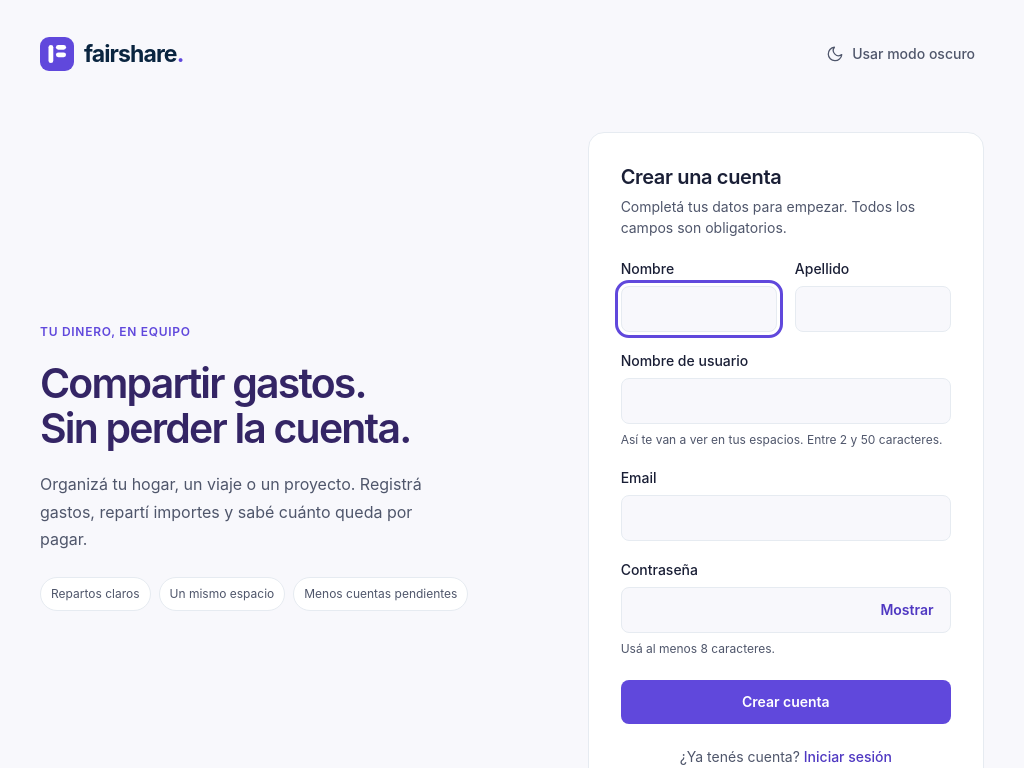
Test: registration › validates every field next to it and focuses the first error
The width and height of the screenshot is (1024, 768).
Type "Ana" into the field named "Nombre (" at (699, 309), box x1=621 y1=286 x2=777 y2=332
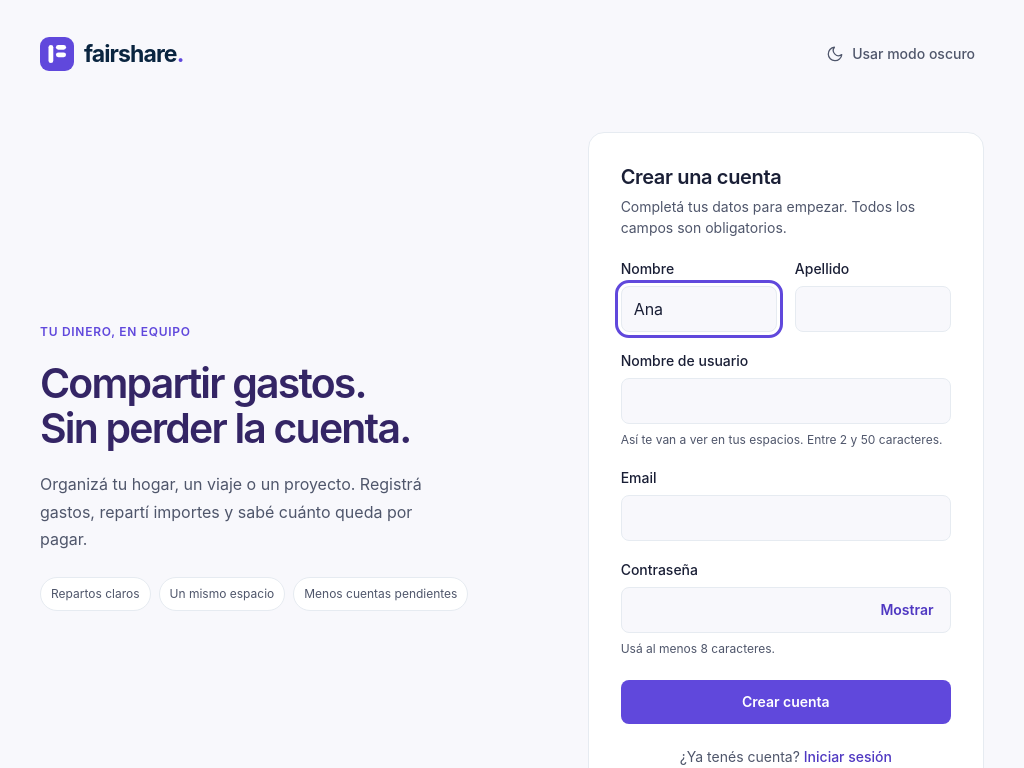
Type "corta" into the password field labelled "Contraseña" at (786, 610), box x1=621 y1=587 x2=951 y2=633
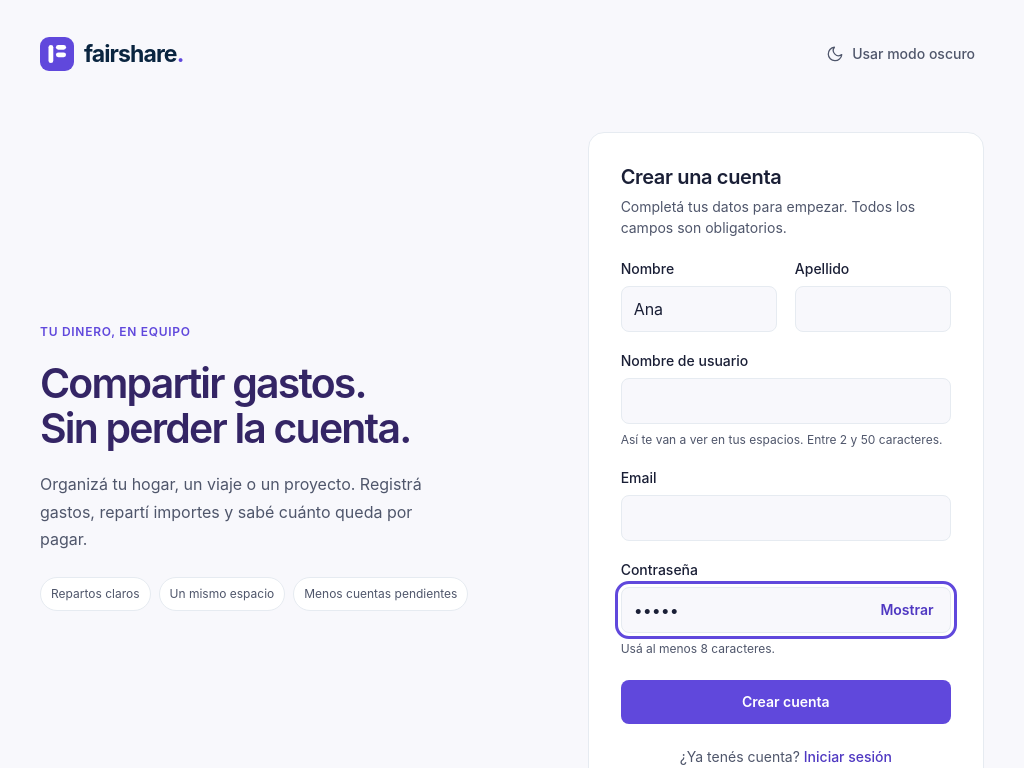
Click the button "Crear cuenta" at (786, 702), box x1=621 y1=680 x2=951 y2=724
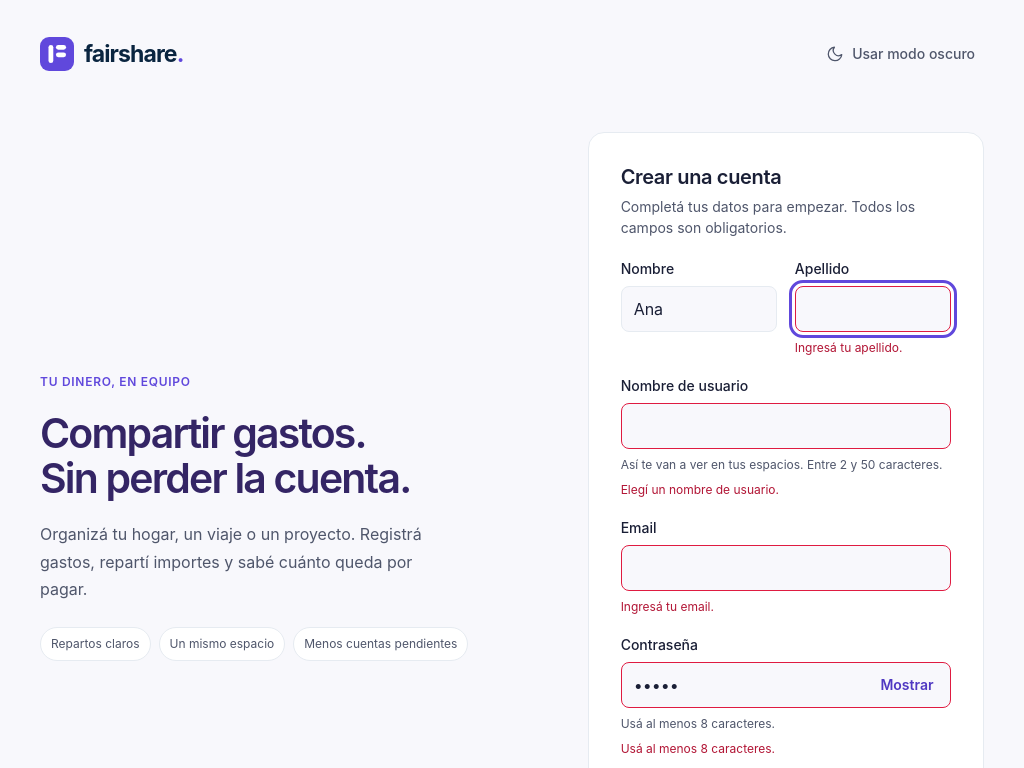
Now the text "Ingresá tu apellido." is shown, box x1=795 y1=340 x2=902 y2=355
Now the text "Elegí un nombre de usuario." is shown, box x1=621 y1=482 x2=779 y2=497
